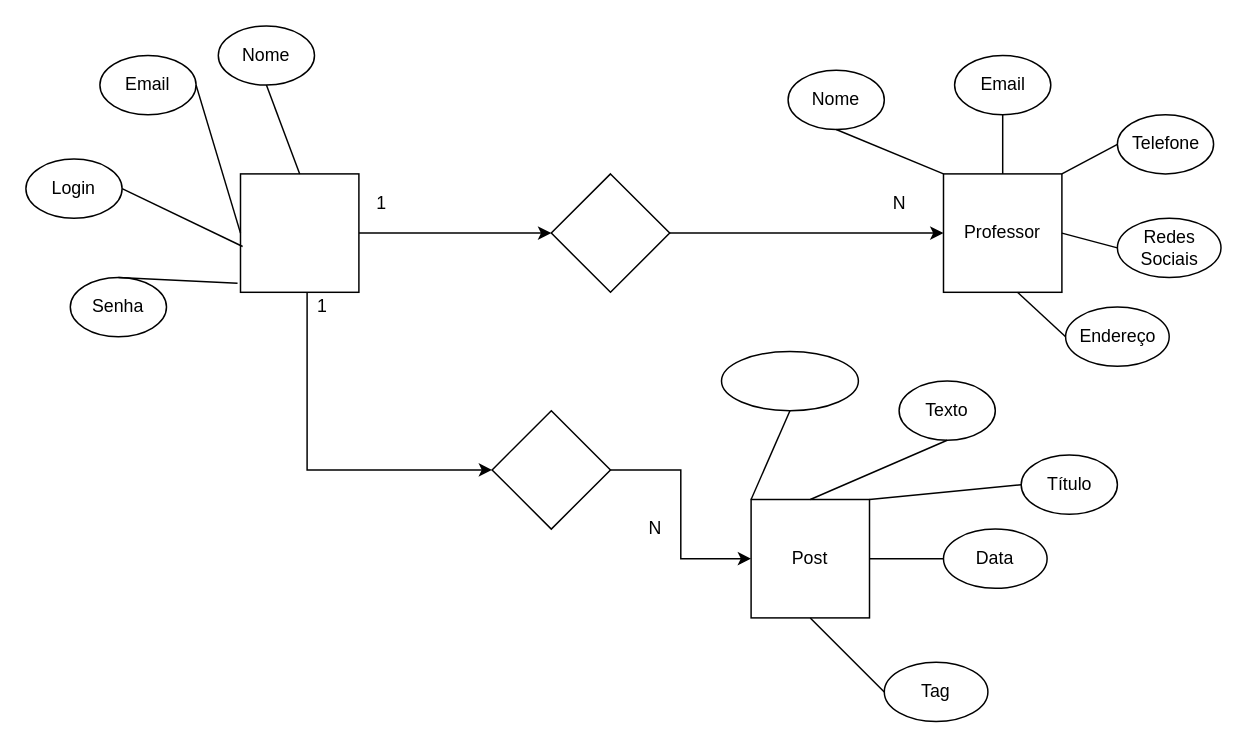
This 1248x747 diagram has some shape labels left out. The centre of each missing label's shape, as x and y in pixels:
"Adiciona" belongs at (610,232).
"Administrador" belongs at (299,232).
"Gera" belongs at (550,469).
"Imagem/Video" belongs at (789,380).
